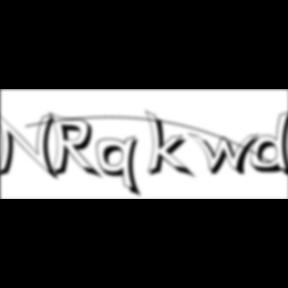N: (0, 109, 64, 183)
R: (48, 112, 106, 182)
k: (145, 108, 198, 181)
q: (96, 135, 146, 200)
w: (189, 132, 267, 178)
